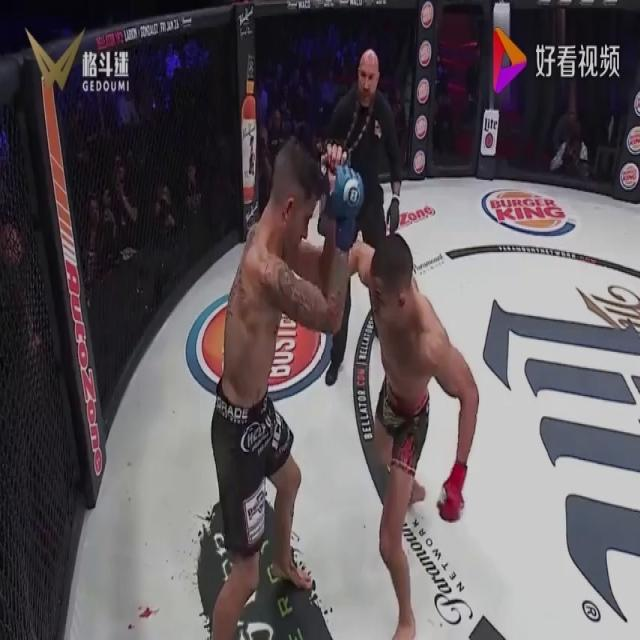fight: (210, 124, 482, 639)
